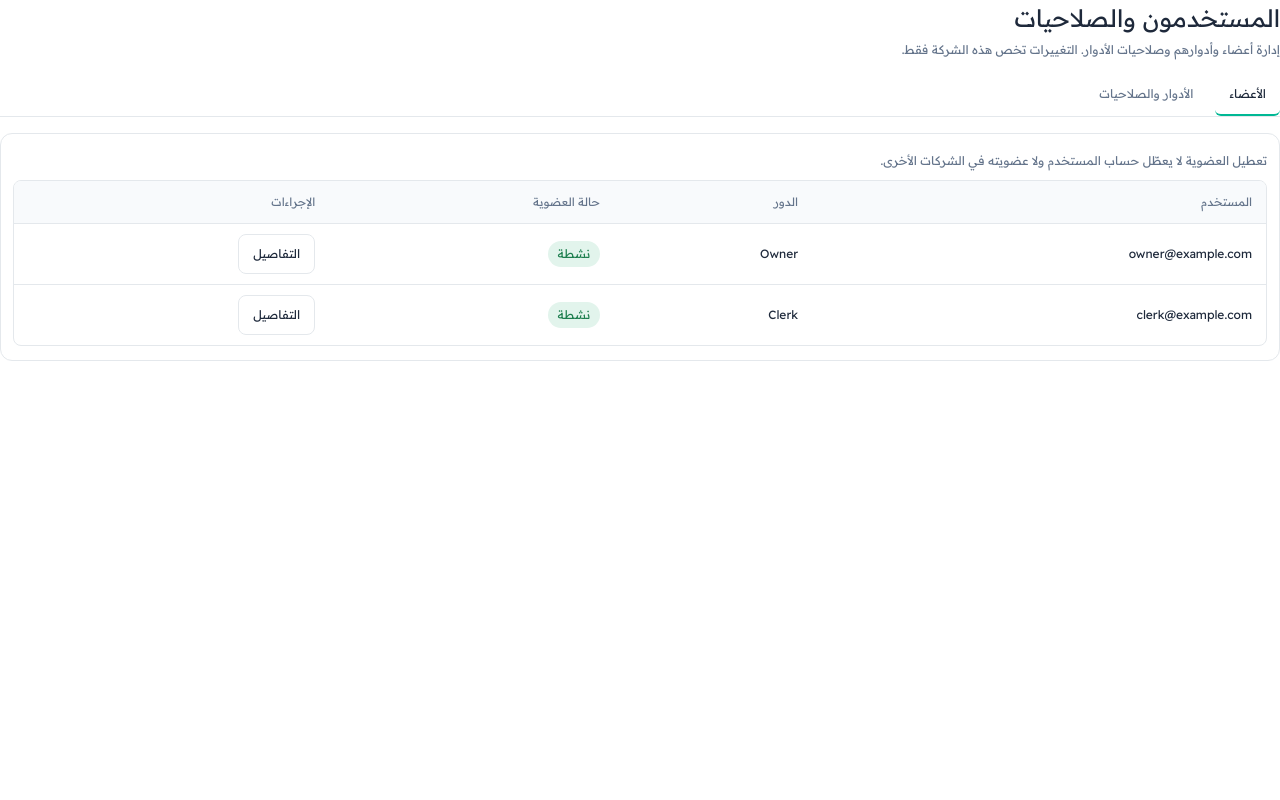
Test: member details dialog › renders Arabic labels
Click the button with aria-label "التفاصيل clerk@example.com": (277, 315) top-left (238, 295), bottom-right (315, 335)
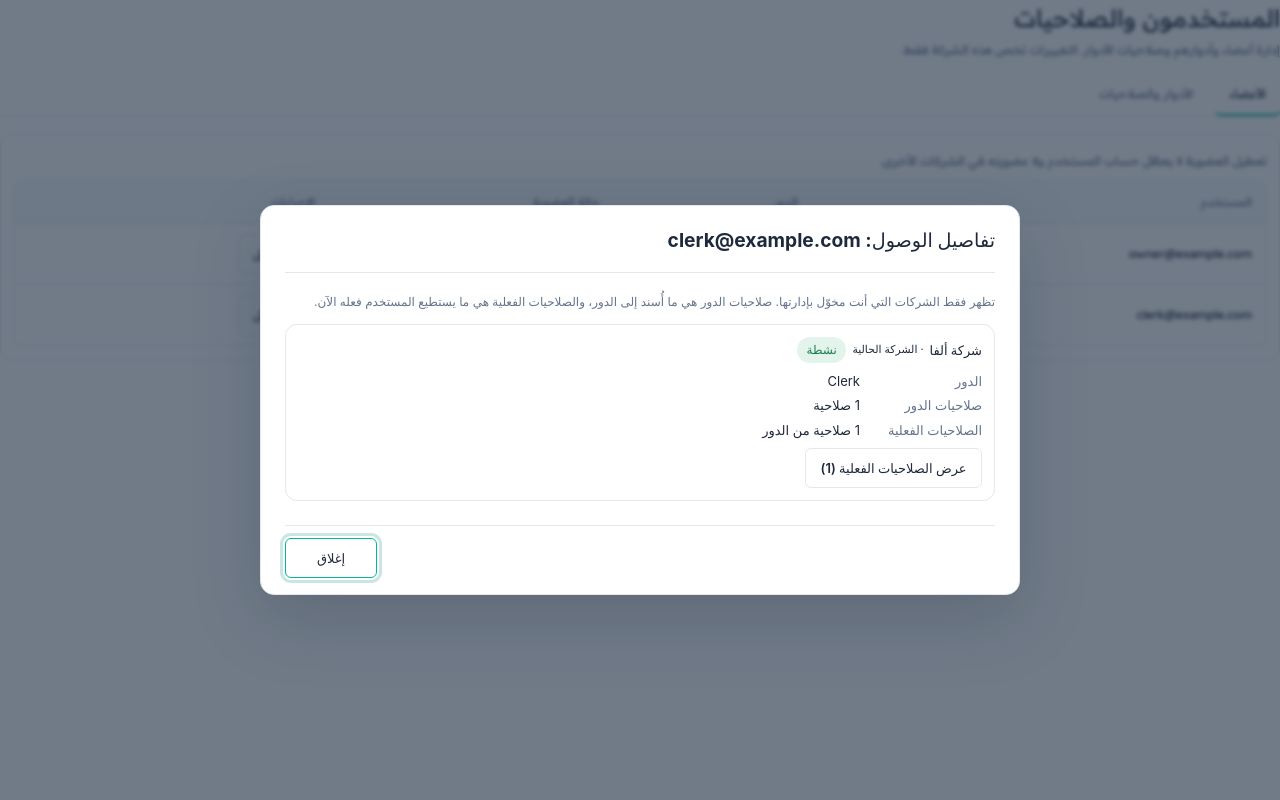
expect the text "شركة ألفا" is shown: met, box top-left (930, 340), bottom-right (982, 360)
expect the text "الصلاحيات الفعلية" is shown: met, box top-left (872, 420), bottom-right (982, 440)
expect the text "صلاحيات الدور" is shown: met, box top-left (904, 397), bottom-right (982, 413)
